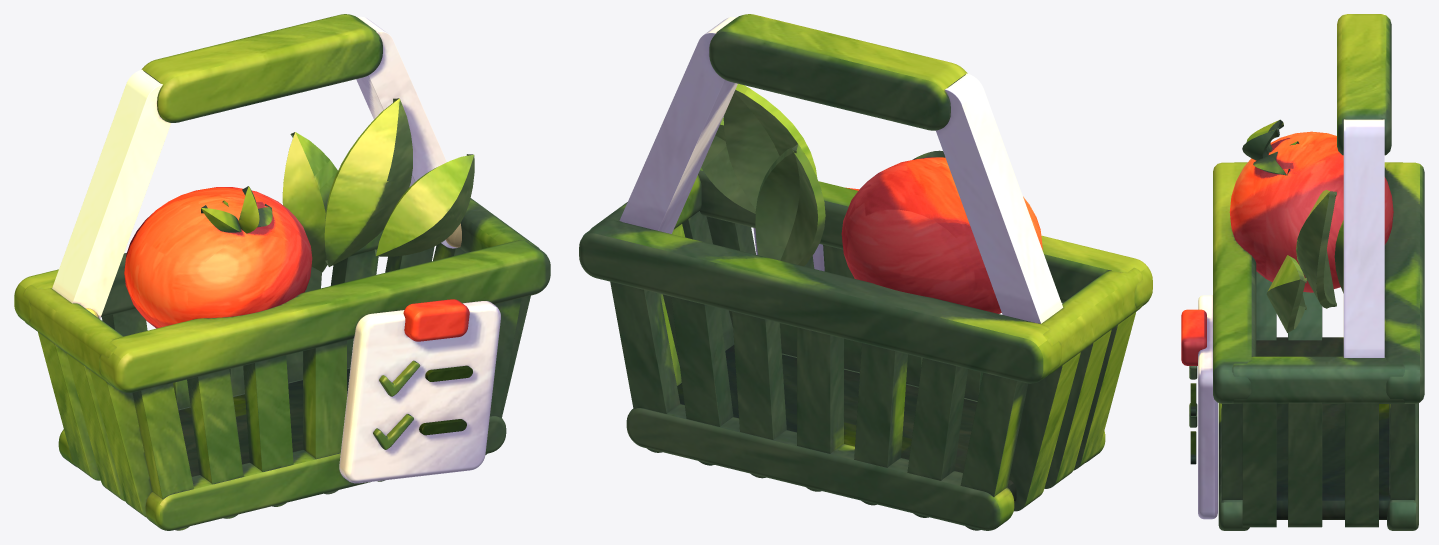
Rendered from kitchen.glb.
3 renders of one model, left to right at view 1: azimuth 30°, elevation 25°; view 2: azimuth 150°, elevation 25°; view 3: azimuth 270°, elevation 25°, orthographic. The views are drawn at different scales.
Visible parts, largest first — view 1: Basket rolled rim.001, Shopping list, Tomato, Handle grip, Cream carry handle, Market greens, Basket foot rail.001, Market greens.001, Basket slat.009, Basket slat.008, Basket slat.010, Cream carry handle.001 (+18 smaller); view 2: Basket rolled rim, Handle grip, Tomato, Basket foot rail, Cream carry handle, Cream carry handle.001, Basket rolled rim.001, Market greens.002, Basket slat.006, Basket slat.005, Basket slat.004, Basket slat.003 (+14 smaller); view 3: Tomato, Cream carry handle.001, Basket rolled rim, Basket rolled rim.001, Side rim.001, Basket floor, Handle grip, Basket sidewall.004, Basket sidewall.005, Basket sidewall.003, Shopping list, Market greens (+12 smaller).
Boxes of the visible parts, x1=… form: Basket rolled rim.001: x1=99, y1=240, x2=550, y2=393; Shopping list: x1=339, y1=301, x2=500, y2=483; Tomato: x1=124, y1=187, x2=312, y2=328; Handle grip: x1=141, y1=14, x2=382, y2=122; Cream carry handle: x1=52, y1=69, x2=170, y2=318; Market greens: x1=324, y1=98, x2=412, y2=266; Basket foot rail.001: x1=145, y1=416, x2=506, y2=530; Market greens.001: x1=374, y1=154, x2=474, y2=256; Basket slat.009: x1=243, y1=355, x2=293, y2=506; Basket slat.008: x1=187, y1=369, x2=243, y2=518; Basket slat.010: x1=303, y1=340, x2=346, y2=494; Cream carry handle.001: x1=356, y1=16, x2=457, y2=248; Basket rolled rim: x1=579, y1=220, x2=1061, y2=383; Handle grip: x1=709, y1=14, x2=967, y2=130; Tomato: x1=841, y1=157, x2=1042, y2=313; Basket foot rail: x1=626, y1=404, x2=1014, y2=530; Cream carry handle: x1=936, y1=73, x2=1062, y2=323; Cream carry handle.001: x1=619, y1=17, x2=737, y2=233; Basket rolled rim.001: x1=698, y1=167, x2=1152, y2=308; Market greens.002: x1=755, y1=144, x2=825, y2=266; Basket slat.006: x1=610, y1=281, x2=680, y2=452; Basket slat.005: x1=671, y1=296, x2=733, y2=465; Basket slat.004: x1=732, y1=311, x2=786, y2=478; Basket slat.003: x1=797, y1=327, x2=843, y2=491; Tomato: x1=1229, y1=131, x2=1393, y2=292; Cream carry handle.001: x1=1343, y1=119, x2=1384, y2=357; Basket rolled rim: x1=1384, y1=162, x2=1424, y2=403; Basket rolled rim.001: x1=1213, y1=162, x2=1256, y2=403; Side rim.001: x1=1232, y1=356, x2=1404, y2=403; Basket floor: x1=1256, y1=337, x2=1390, y2=519; Handle grip: x1=1337, y1=14, x2=1391, y2=155; Basket sidewall.004: x1=1288, y1=402, x2=1322, y2=527; Basket sidewall.005: x1=1242, y1=402, x2=1276, y2=527; Basket sidewall.003: x1=1345, y1=402, x2=1378, y2=527; Shopping list: x1=1198, y1=295, x2=1217, y2=519; Market greens: x1=1296, y1=189, x2=1336, y2=308.
Bounding box in the file's own units: 2.19 × 1.91 × 1.07.
Materials: 9 (9 with a texture image).
